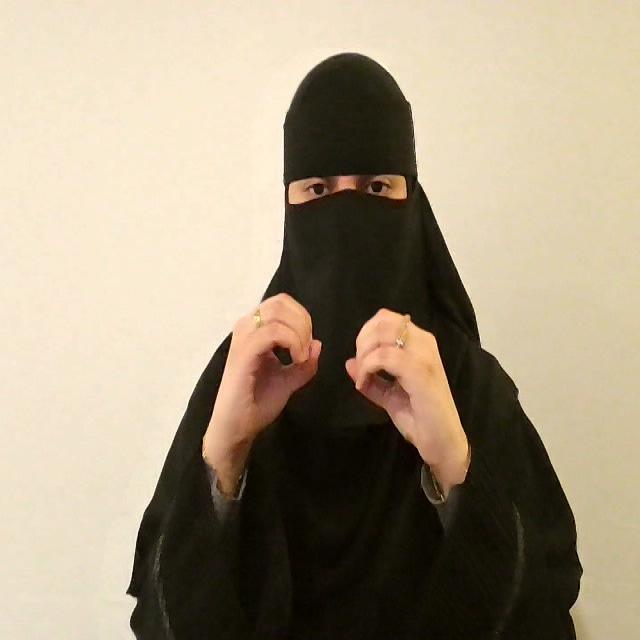analysis: (207, 291, 458, 467)
